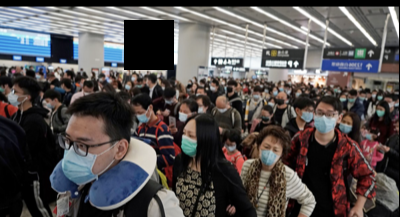with_mask: (60, 130, 112, 184), (313, 108, 336, 134), (257, 142, 281, 165), (179, 127, 196, 156), (5, 87, 21, 107), (132, 109, 149, 123), (337, 118, 351, 133), (299, 108, 312, 123), (176, 108, 189, 122), (223, 141, 235, 152), (274, 95, 284, 106), (43, 99, 53, 110), (195, 101, 203, 114), (258, 113, 269, 122), (215, 105, 226, 114), (375, 107, 383, 117), (346, 95, 355, 103), (224, 85, 233, 93), (162, 97, 171, 105), (208, 84, 215, 92), (364, 132, 371, 140), (338, 95, 345, 102), (266, 101, 273, 108), (251, 92, 257, 99), (123, 83, 129, 90), (357, 94, 363, 100), (128, 75, 134, 81), (369, 93, 375, 99), (376, 95, 381, 100)
